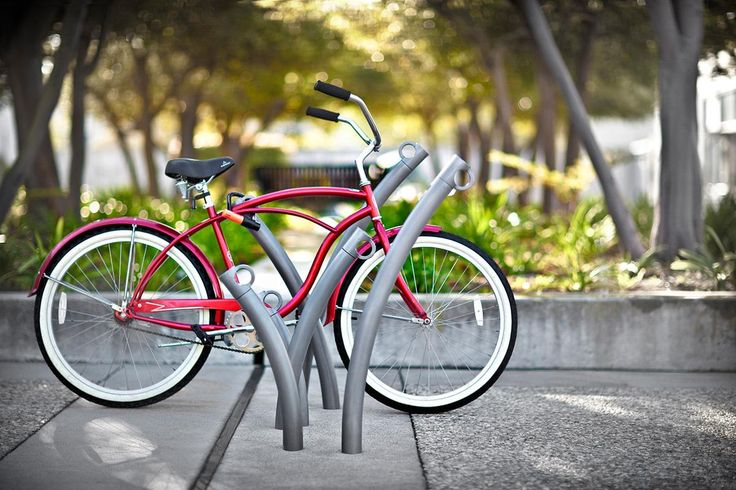Bicycle: (27, 79, 518, 418)
